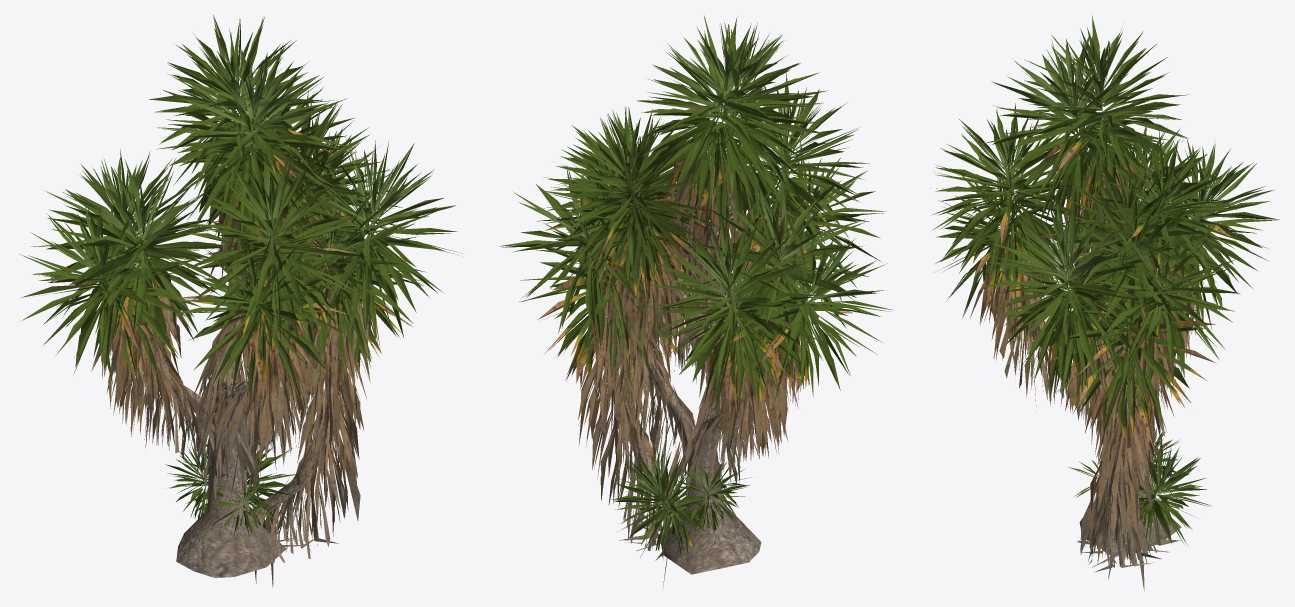
File: yucca_b.glb
3 renders of one model, left to right at view 1: azimuth 30°, elevation 25°; view 2: azimuth 150°, elevation 25°; view 3: azimuth 270°, elevation 25°, orthographic. The views are drawn at different scales.
Parts seen in each view (by area): view 1: Yucca_elephantipes_HD_Yucca eleph bark 02_0; view 2: Yucca_elephantipes_HD_Yucca eleph bark 02_0; view 3: Yucca_elephantipes_HD_Yucca eleph bark 02_0.
Boxes of the visible parts, left/top/right/bottom form: Yucca_elephantipes_HD_Yucca eleph bark 02_0: left=19, top=15, right=461, bottom=587; Yucca_elephantipes_HD_Yucca eleph bark 02_0: left=499, top=16, right=893, bottom=589; Yucca_elephantipes_HD_Yucca eleph bark 02_0: left=931, top=14, right=1279, bottom=590.
Bounding box in the file's own units: 2.39 × 3.46 × 2.05.
9 materials, 9 textured.
